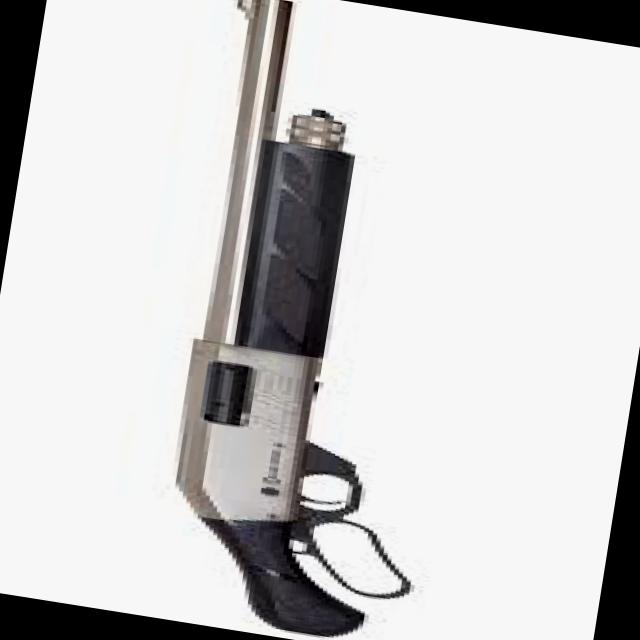long weapon: (142, 0, 469, 640)
